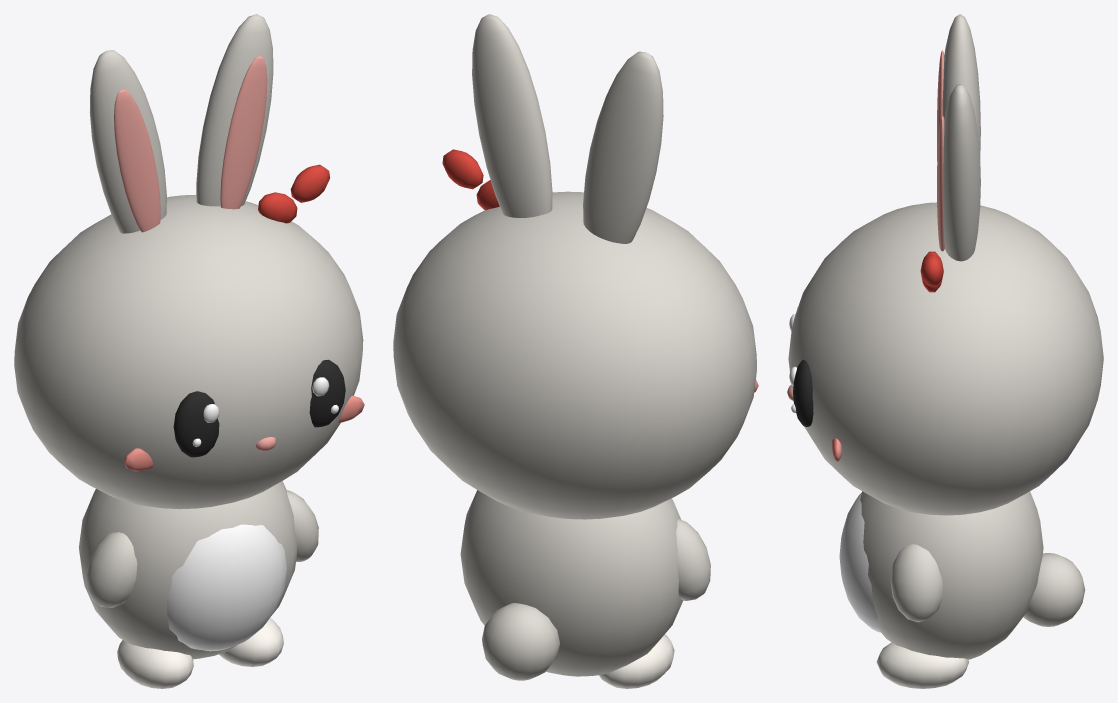
The model's file is bunny.glb.
3 views of the same model, side by side, from view 1: azimuth 30°, elevation 25°; view 2: azimuth 150°, elevation 25°; view 3: azimuth 270°, elevation 25° (orthographic). The views are drawn at different scales.
Parts seen in each view (by area): view 1: head, body, belly, ear_r, ear_l, ear_inner_r, ear_inner_l, arm_l, foot_l, eye_l, foot_r, eye_r (+3 smaller); view 2: head, body, ear_r, ear_l, tail, arm_l, foot_l, ribbon_r; view 3: head, body, ear_r, arm_r, tail, belly, foot_r, ear_l, eye_r, ear_inner_r, ribbon_r.
Boxes of the visible parts, x1=… form: head: x1=14, y1=195, x2=363, y2=509; body: x1=78, y1=481, x2=297, y2=659; belly: x1=166, y1=524, x2=286, y2=651; ear_r: x1=196, y1=14, x2=273, y2=206; ear_l: x1=89, y1=50, x2=166, y2=233; ear_inner_r: x1=220, y1=56, x2=267, y2=209; ear_inner_l: x1=114, y1=89, x2=160, y2=232; arm_l: x1=87, y1=532, x2=137, y2=607; foot_l: x1=117, y1=640, x2=193, y2=688; eye_l: x1=173, y1=391, x2=219, y2=457; foot_r: x1=219, y1=618, x2=283, y2=666; eye_r: x1=309, y1=359, x2=345, y2=427; head: x1=393, y1=191, x2=756, y2=519; body: x1=460, y1=490, x2=683, y2=676; ear_r: x1=472, y1=14, x2=552, y2=217; ear_l: x1=583, y1=51, x2=663, y2=243; tail: x1=482, y1=603, x2=559, y2=680; arm_l: x1=676, y1=519, x2=710, y2=600; foot_l: x1=598, y1=634, x2=674, y2=688; ribbon_r: x1=442, y1=149, x2=483, y2=189; head: x1=788, y1=202, x2=1103, y2=515; body: x1=860, y1=491, x2=1043, y2=659; ear_r: x1=943, y1=84, x2=980, y2=261; arm_r: x1=890, y1=544, x2=942, y2=622; tail: x1=1023, y1=553, x2=1085, y2=626; belly: x1=839, y1=493, x2=881, y2=632; foot_r: x1=876, y1=642, x2=968, y2=688; ear_l: x1=942, y1=14, x2=980, y2=156; eye_r: x1=793, y1=360, x2=813, y2=426; ear_inner_r: x1=937, y1=115, x2=944, y2=251; ribbon_r: x1=920, y1=254, x2=943, y2=286.
Bounding box in the file's own units: 0.76 × 1.46 × 0.6829.
